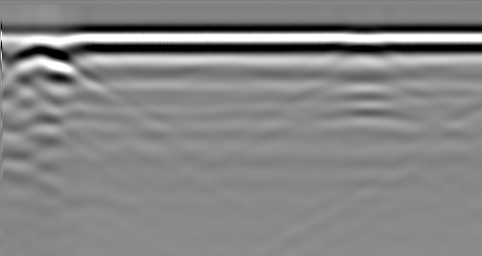steel: (11, 46, 75, 82)
